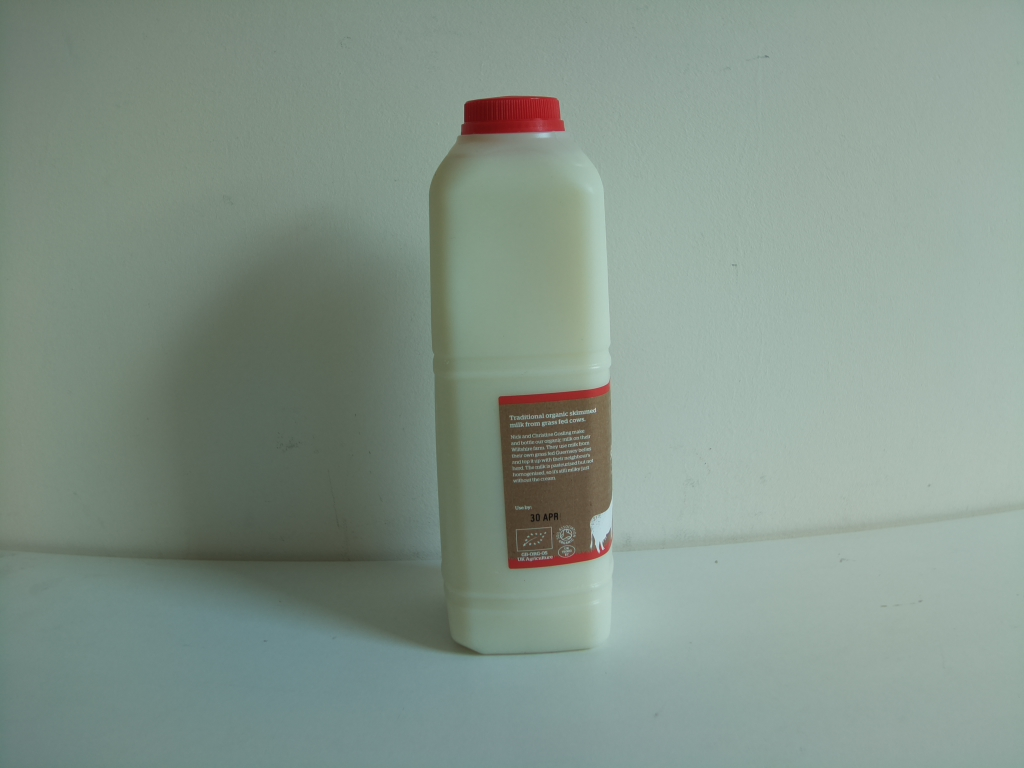milk: (422, 91, 629, 666)
